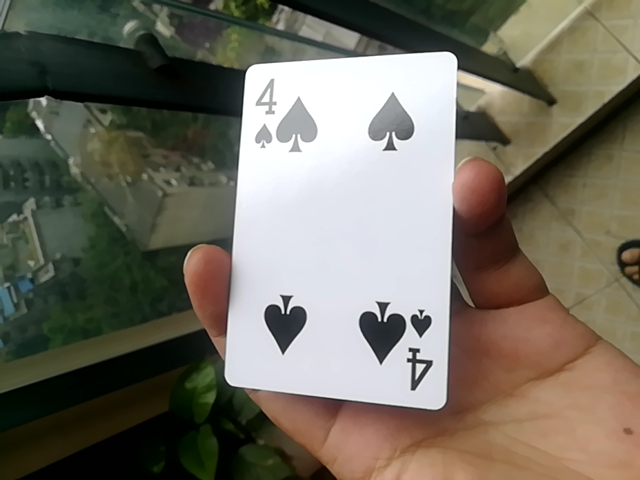ht 4: (230, 53, 466, 413)
